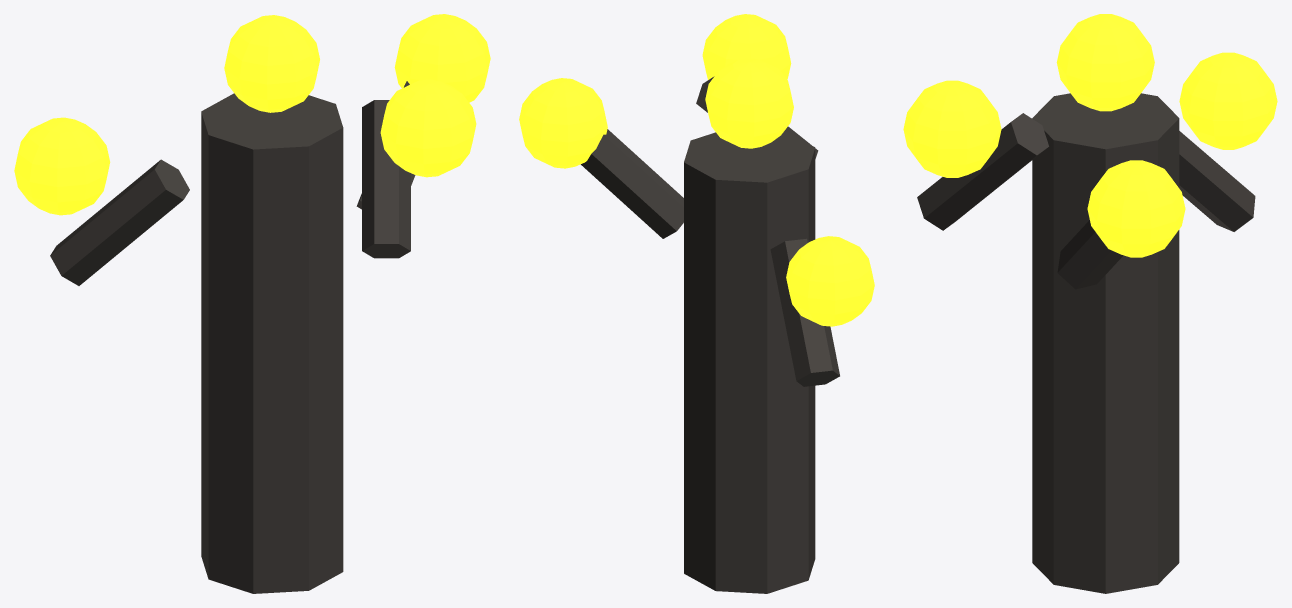
The model's file is prop_volcanus_ember_fruit.fbx.
The picture shows the model from 3 angles, left to right: view 1: azimuth 30°, elevation 25°; view 2: azimuth 150°, elevation 25°; view 3: azimuth 270°, elevation 25°; orthographic projection. The views are drawn at different scales.
Parts seen in each view (by area): view 1: Vo_EmberFruit_Trunk, Vo_EmberFruit_3, Vo_EmberFruit_2, Vo_EmberFruit_1, Vo_EmberFruit_Branch_1, Vo_EmberFruit_Branch_2, Vo_EmberFruit_0; view 2: Vo_EmberFruit_Trunk, Vo_EmberFruit_1, Vo_EmberFruit_3, Vo_EmberFruit_0, Vo_EmberFruit_Branch_0, Vo_EmberFruit_Branch_1, Vo_EmberFruit_2; view 3: Vo_EmberFruit_Trunk, Vo_EmberFruit_1, Vo_EmberFruit_3, Vo_EmberFruit_2, Vo_EmberFruit_0, Vo_EmberFruit_Branch_2, Vo_EmberFruit_Branch_1, Vo_EmberFruit_Branch_0.
Boxes of the visible parts, left/top/right/bottom form: Vo_EmberFruit_Trunk: left=201, top=93, right=343, bottom=593; Vo_EmberFruit_3: left=224, top=15, right=319, bottom=112; Vo_EmberFruit_2: left=380, top=79, right=476, bottom=177; Vo_EmberFruit_1: left=14, top=117, right=110, bottom=215; Vo_EmberFruit_Branch_1: left=50, top=159, right=189, bottom=285; Vo_EmberFruit_Branch_2: left=362, top=100, right=410, bottom=258; Vo_EmberFruit_0: left=394, top=14, right=490, bottom=102; Vo_EmberFruit_Trunk: left=684, top=131, right=815, bottom=593; Vo_EmberFruit_1: left=786, top=236, right=874, bottom=326; Vo_EmberFruit_3: left=705, top=58, right=793, bottom=148; Vo_EmberFruit_0: left=519, top=78, right=607, bottom=168; Vo_EmberFruit_Branch_0: left=581, top=129, right=683, bottom=238; Vo_EmberFruit_Branch_1: left=770, top=238, right=839, bottom=386; Vo_EmberFruit_2: left=702, top=14, right=791, bottom=79; Vo_EmberFruit_Trunk: left=1032, top=93, right=1179, bottom=593; Vo_EmberFruit_1: left=1179, top=52, right=1277, bottom=149; Vo_EmberFruit_3: left=1056, top=14, right=1154, bottom=111; Vo_EmberFruit_2: left=903, top=80, right=1001, bottom=177; Vo_EmberFruit_0: left=1087, top=160, right=1185, bottom=257; Vo_EmberFruit_Branch_2: left=917, top=113, right=1048, bottom=230; Vo_EmberFruit_Branch_1: left=1179, top=131, right=1255, bottom=231; Vo_EmberFruit_Branch_0: left=1057, top=220, right=1123, bottom=289.
Size of the model in its own units: 0.7822 by 0.98 by 0.61.
